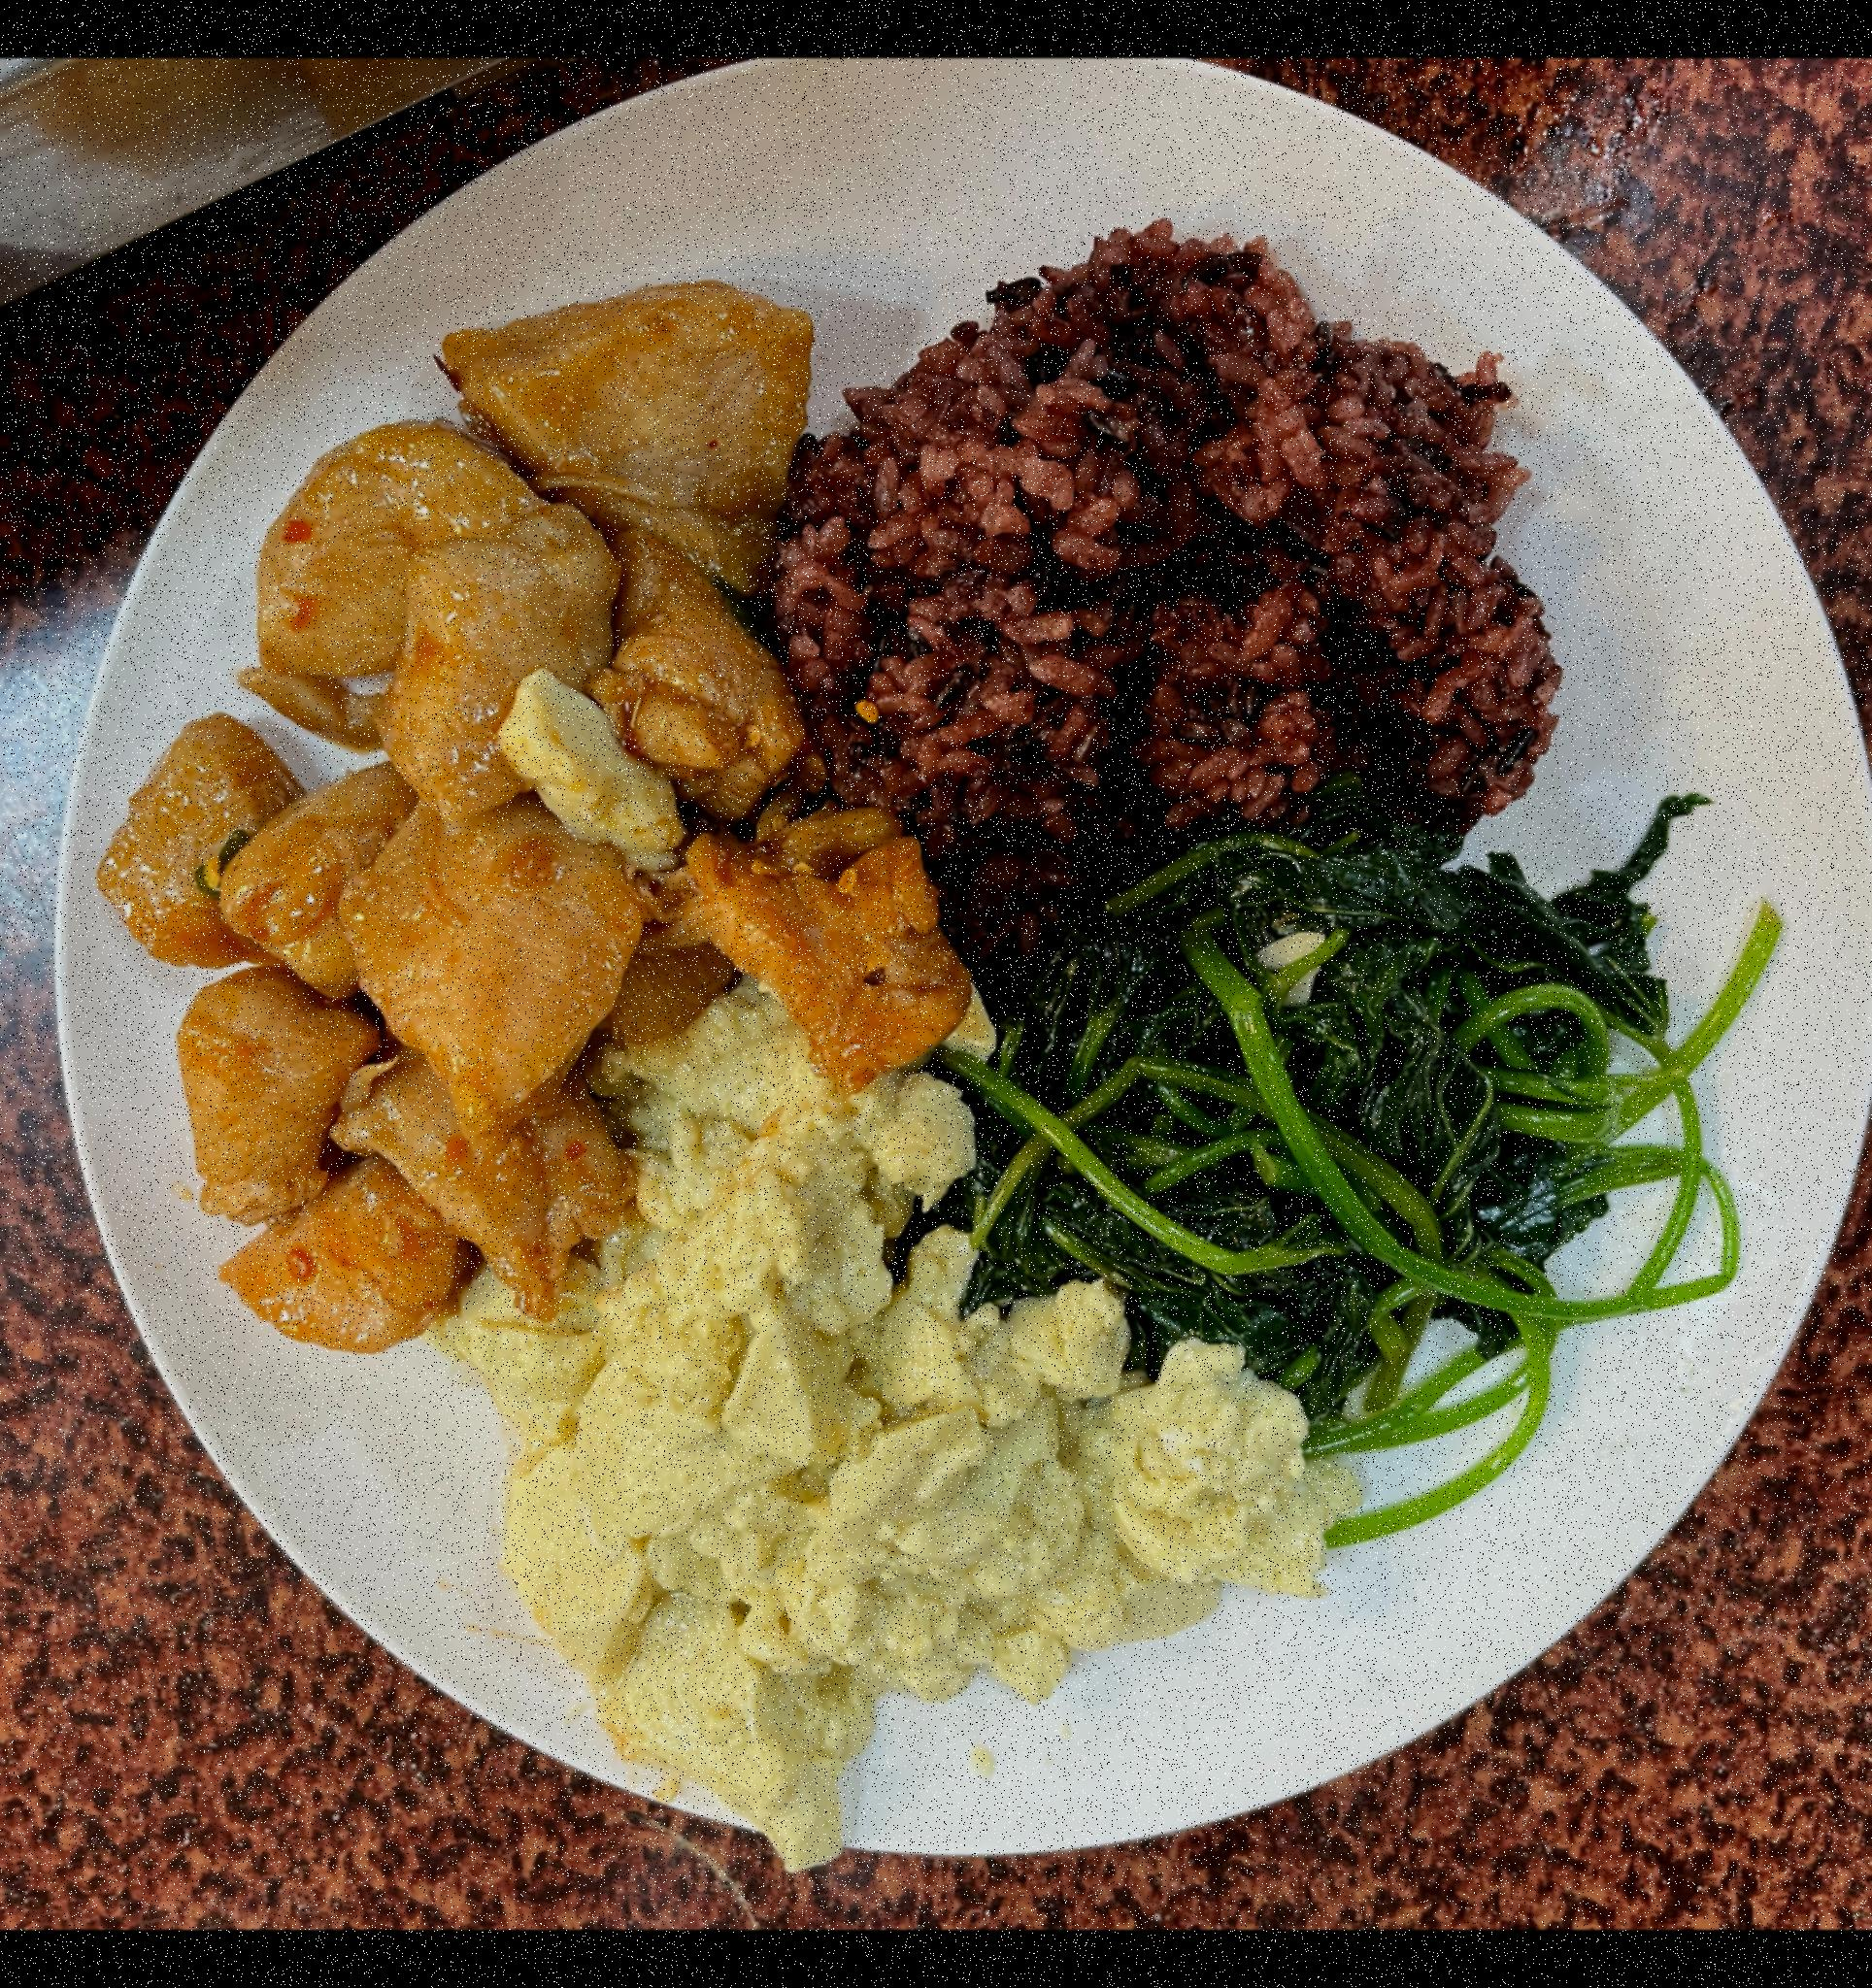plate: (21, 58, 1872, 1860)
purple rice: (799, 222, 1576, 968)
side dish: (501, 1012, 1341, 1814), (962, 839, 1731, 1443)
spicy chicken: (127, 264, 896, 1349)
